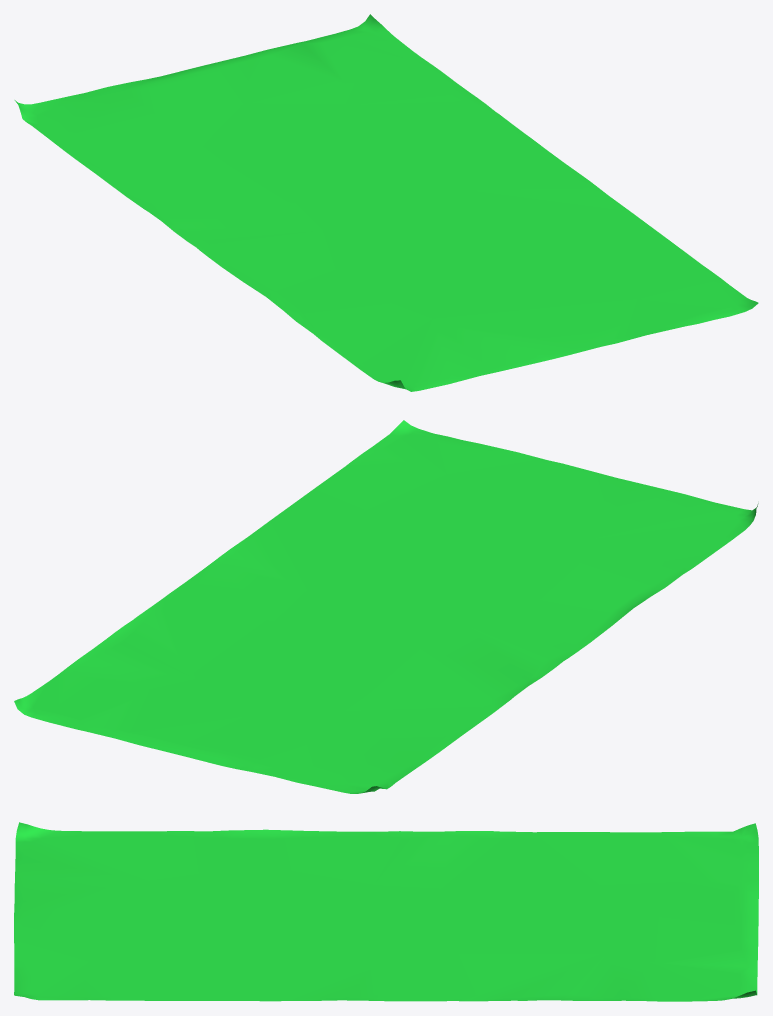
The model's file is SM_Medical_Cart_7_cloth.FBX.
The picture shows the model from 3 angles, top to bottom: view 1: azimuth 30°, elevation 25°; view 2: azimuth 150°, elevation 25°; view 3: azimuth 270°, elevation 25°; orthographic projection. The views are drawn at different scales.
Parts seen in each view (by area): view 1: Medical_Cart_7_cloth; view 2: Medical_Cart_7_cloth; view 3: Medical_Cart_7_cloth.
Boxes of the visible parts, <box> form: Medical_Cart_7_cloth: <box>14,14,758,391</box>; Medical_Cart_7_cloth: <box>14,420,758,793</box>; Medical_Cart_7_cloth: <box>14,822,758,1001</box>.
Bounding box in the file's own units: 82.31 × 152 × 3.37.
